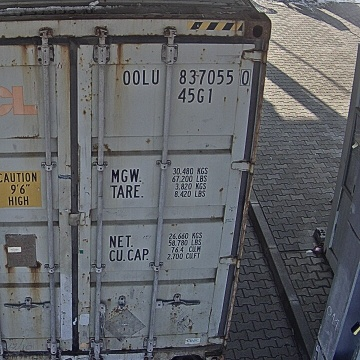serial_id: (123, 70, 250, 85)
